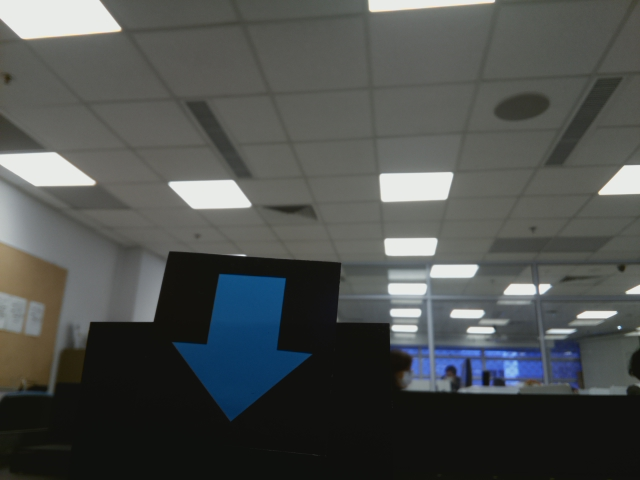down: (176, 271, 315, 428)
